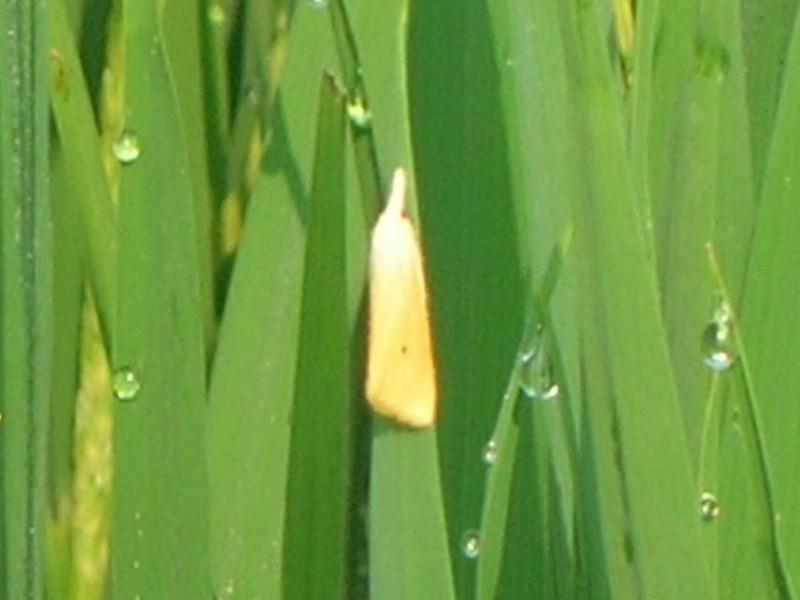Rice_skipper: (322, 170, 467, 438)
